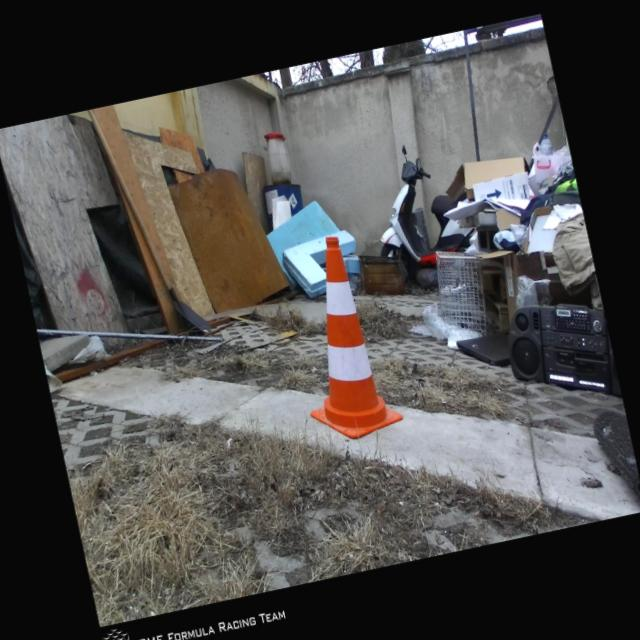large_orange_cone: (276, 228, 404, 446)
